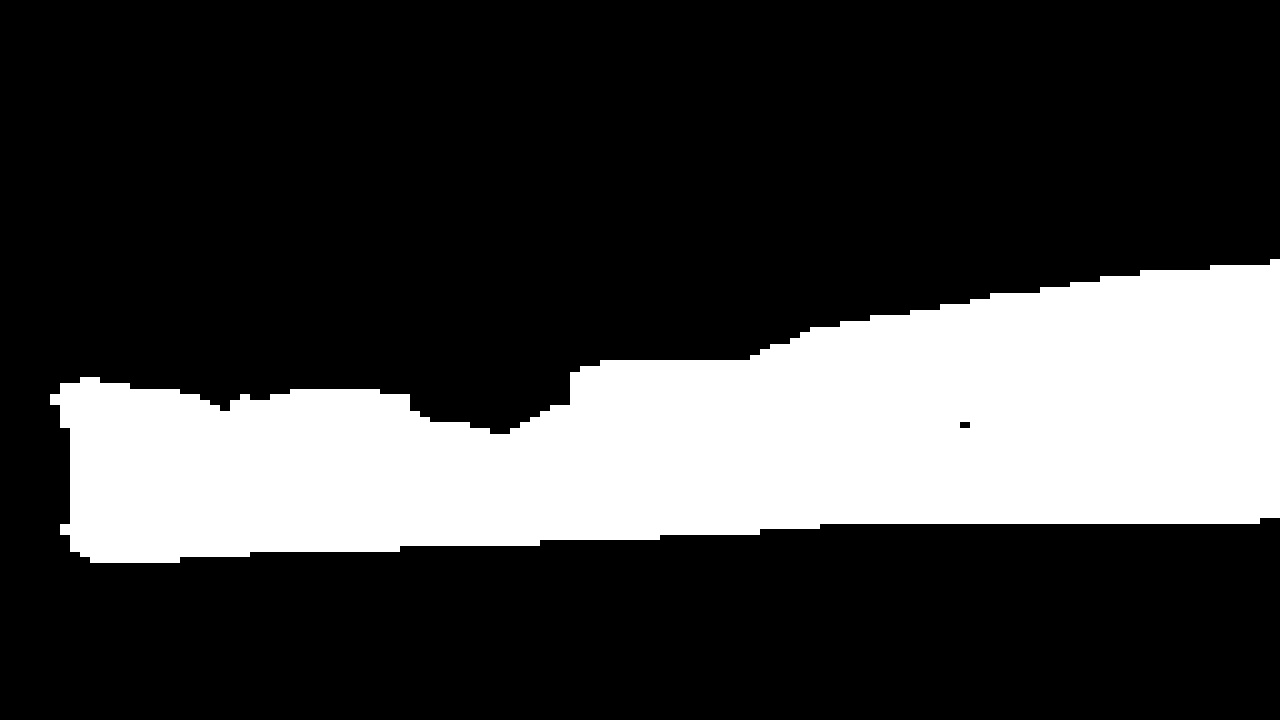Turbine: (37, 234, 1272, 584)
